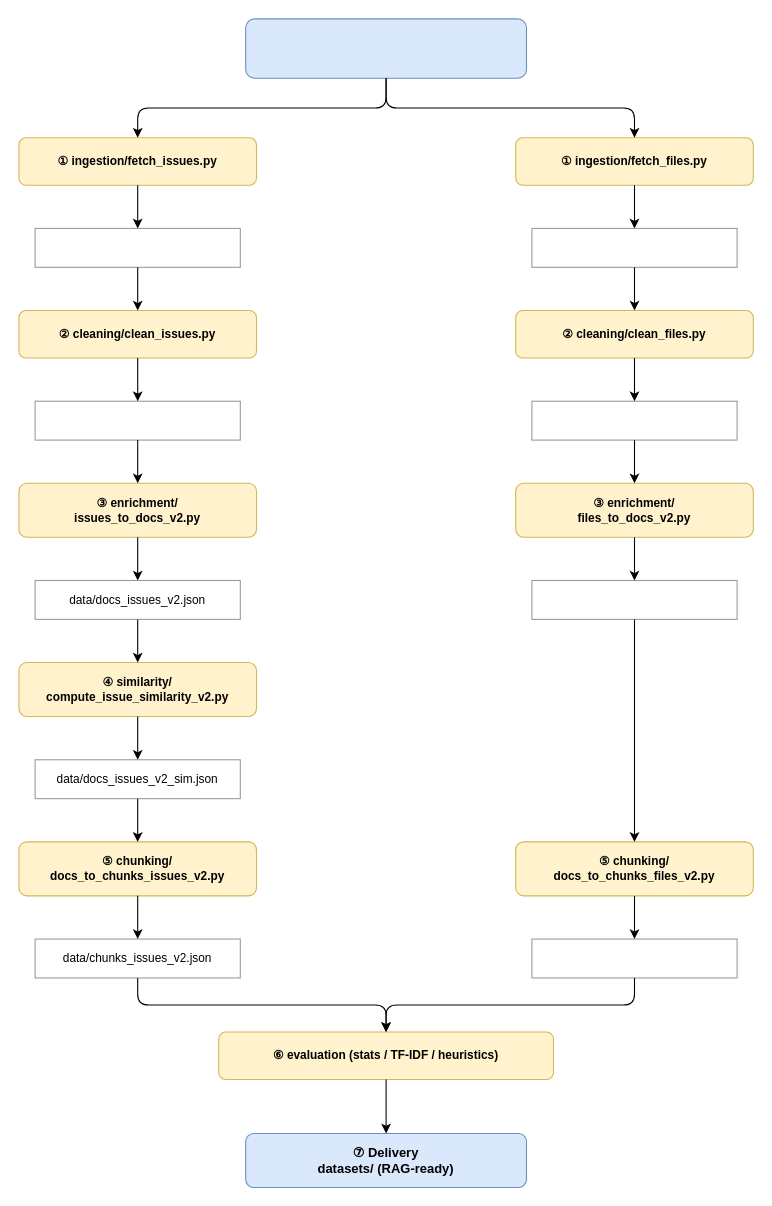
Some shapes in this 772 by 1206 pixel diagram are drawn without their labels. The centre of each missing label's shape, as x and y in pixels:
"data/chunks_files_v2.json" goes at (634,958).
"data/clean_files.json" goes at (634,420).
"data/clean_issues.json" goes at (137,420).
"data/docs_files_v2.json" goes at (634,599).
"data/raw_files.json" goes at (634,247).
"data/raw_issues.json" goes at (137,247).
"Sources GitHub Issues API + STM32Cube repos" goes at (385,48).
